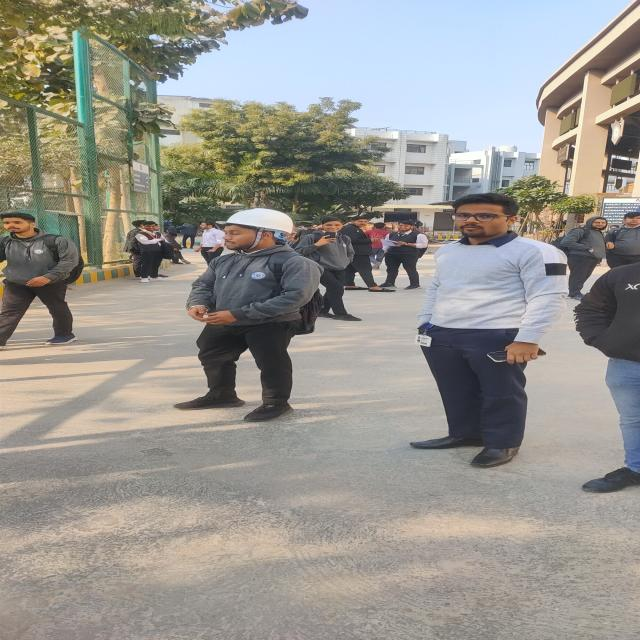no jacket: (190, 209, 323, 422)
unsafe: (429, 193, 572, 456), (0, 212, 81, 346), (298, 217, 363, 322), (560, 217, 614, 300), (343, 216, 396, 292), (381, 221, 427, 290), (136, 221, 172, 283), (605, 212, 640, 267), (196, 221, 224, 266), (365, 222, 389, 270), (177, 222, 197, 248), (294, 224, 316, 240)
